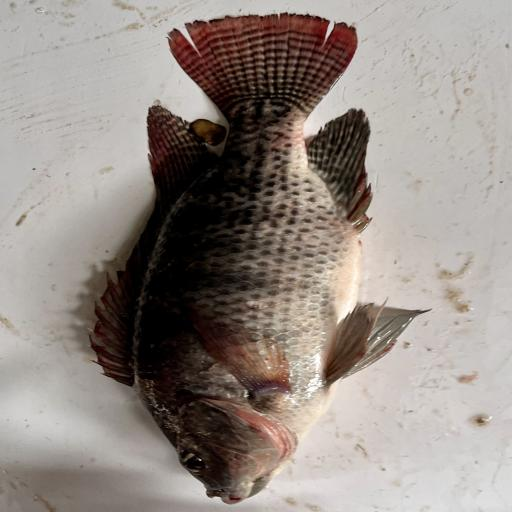Tilapia: (88, 12, 433, 505)
